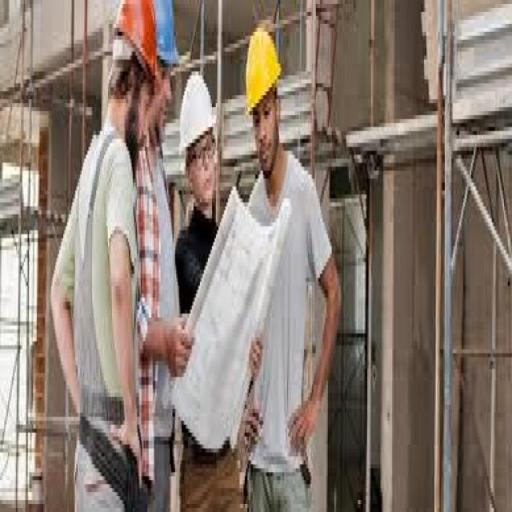helmet: (106, 1, 160, 87), (240, 20, 285, 123), (175, 64, 217, 166), (150, 4, 182, 75)
vest: (171, 194, 251, 469)
